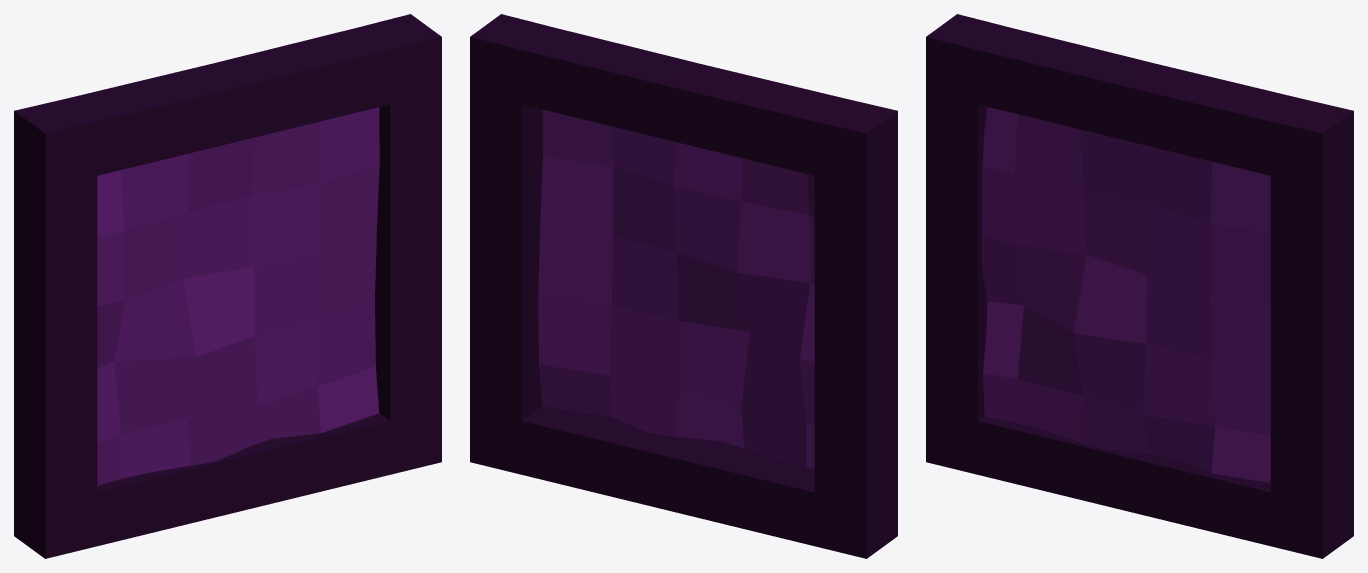
The model's file is portal2.fbx.
3 renders of one model, left to right at view 1: azimuth 30°, elevation 25°; view 2: azimuth 150°, elevation 25°; view 3: azimuth 330°, elevation 25°, orthographic.
Parts seen in each view (by area): view 1: Plane, Plane.001; view 2: Plane, Plane.001; view 3: Plane, Plane.001.
Boxes of the visible parts, left/top/right/bottom form: Plane: left=14, top=14, right=441, bottom=558; Plane.001: left=97, top=107, right=379, bottom=485; Plane: left=470, top=14, right=897, bottom=558; Plane.001: left=538, top=109, right=814, bottom=469; Plane: left=926, top=14, right=1353, bottom=558; Plane.001: left=982, top=107, right=1270, bottom=482.
Size of the model in its own units: 1470 by 1507 by 210.
